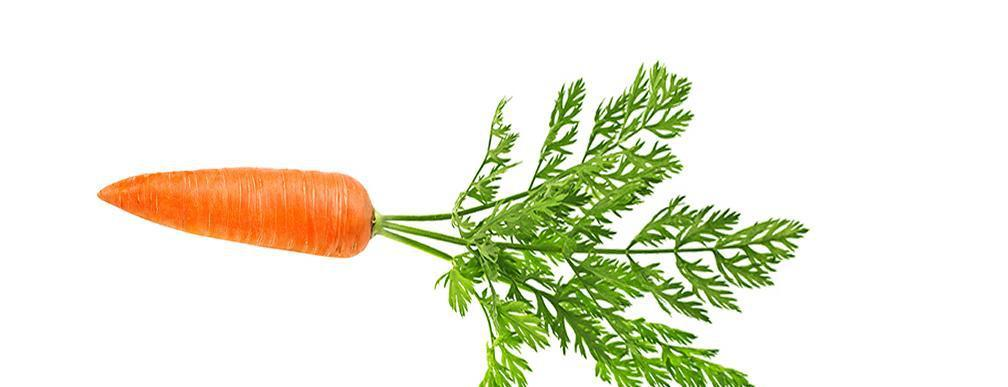carrot: (62, 103, 813, 336)
